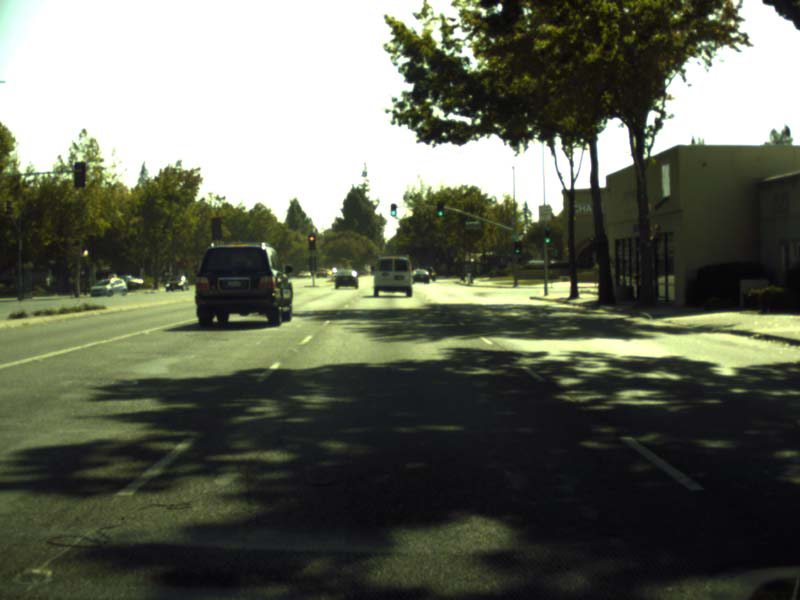Green: (514, 241, 521, 254), (437, 201, 443, 216), (543, 229, 549, 244), (390, 203, 396, 216)
Red: (308, 234, 315, 251)
